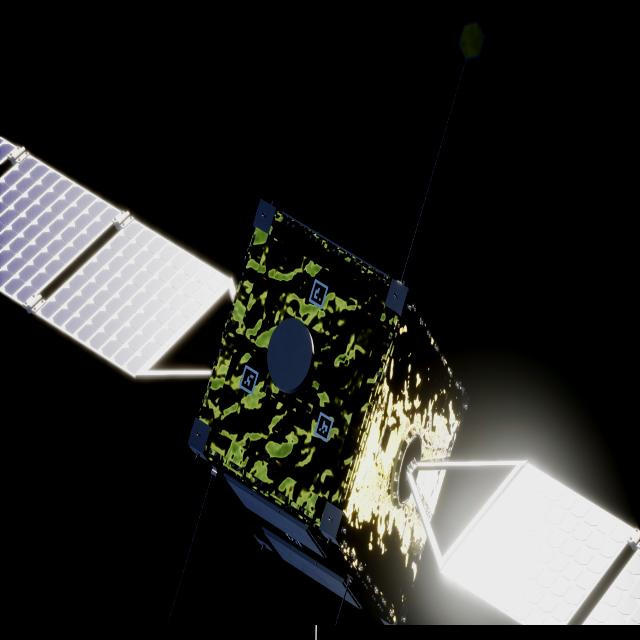medium_debris: (0, 136, 640, 626)
